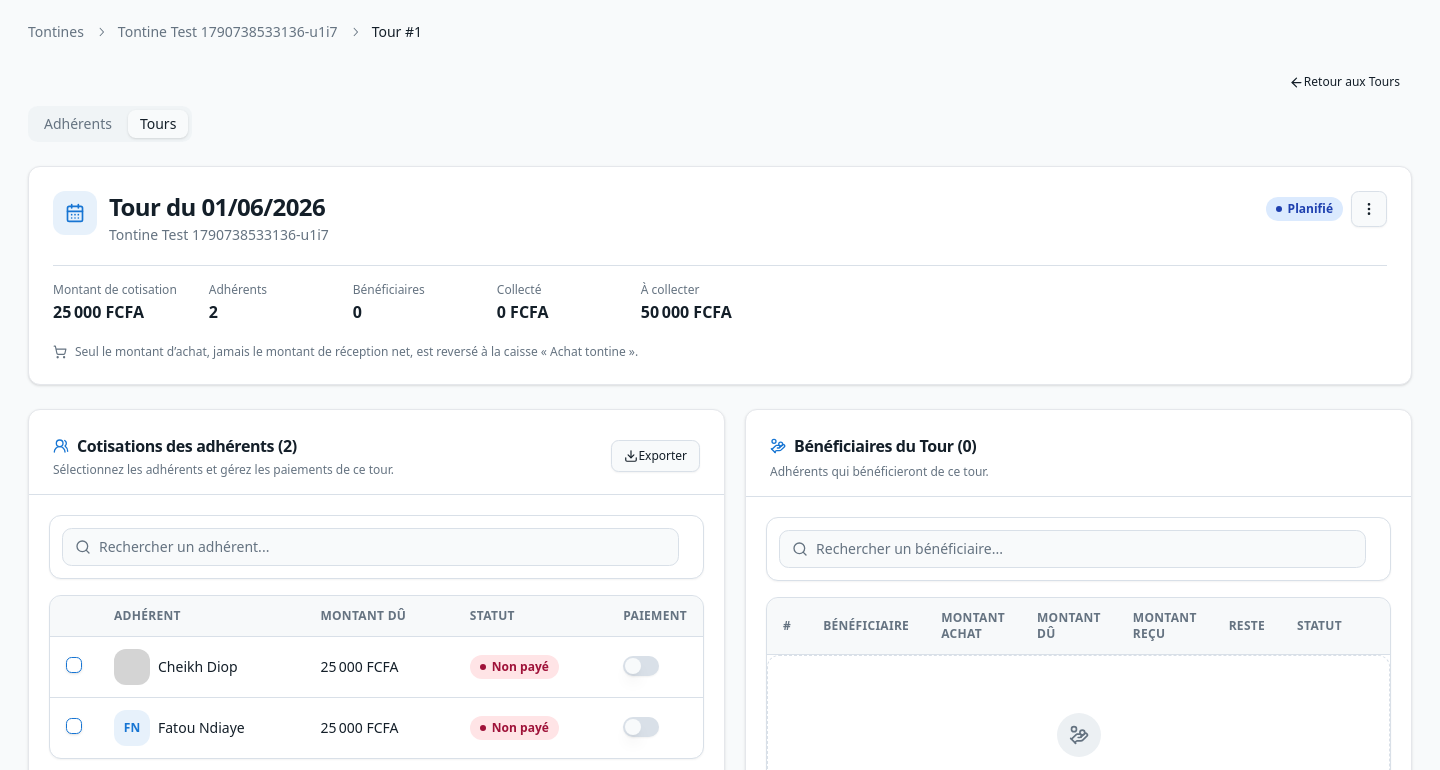
Espace de travail du Tour — Action « Régler » (Dû / Reçu / Reste / Statut) › un nouveau bénéficiaire affiche Dû/Reçu/Reste et le statut « En attente »
Expected: the text "Fatou Ndiaye" is shown, [158,718,245,737]
Click the checkbox named "Sélectionner" next to "FN" at [74, 726], box [66,718,82,734]
(page scrolled)
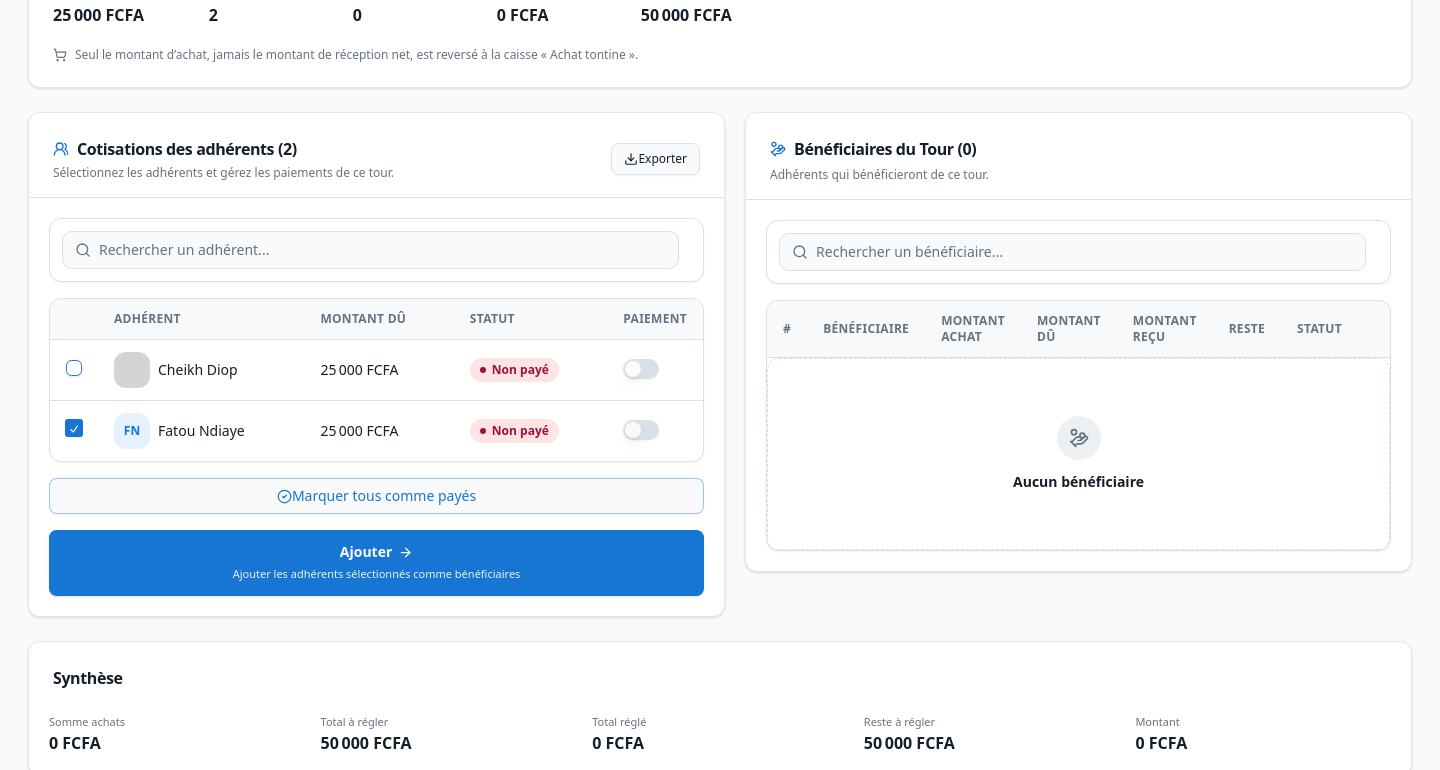
Click the button "Ajouter" at [377, 563], box [49,530,704,596]
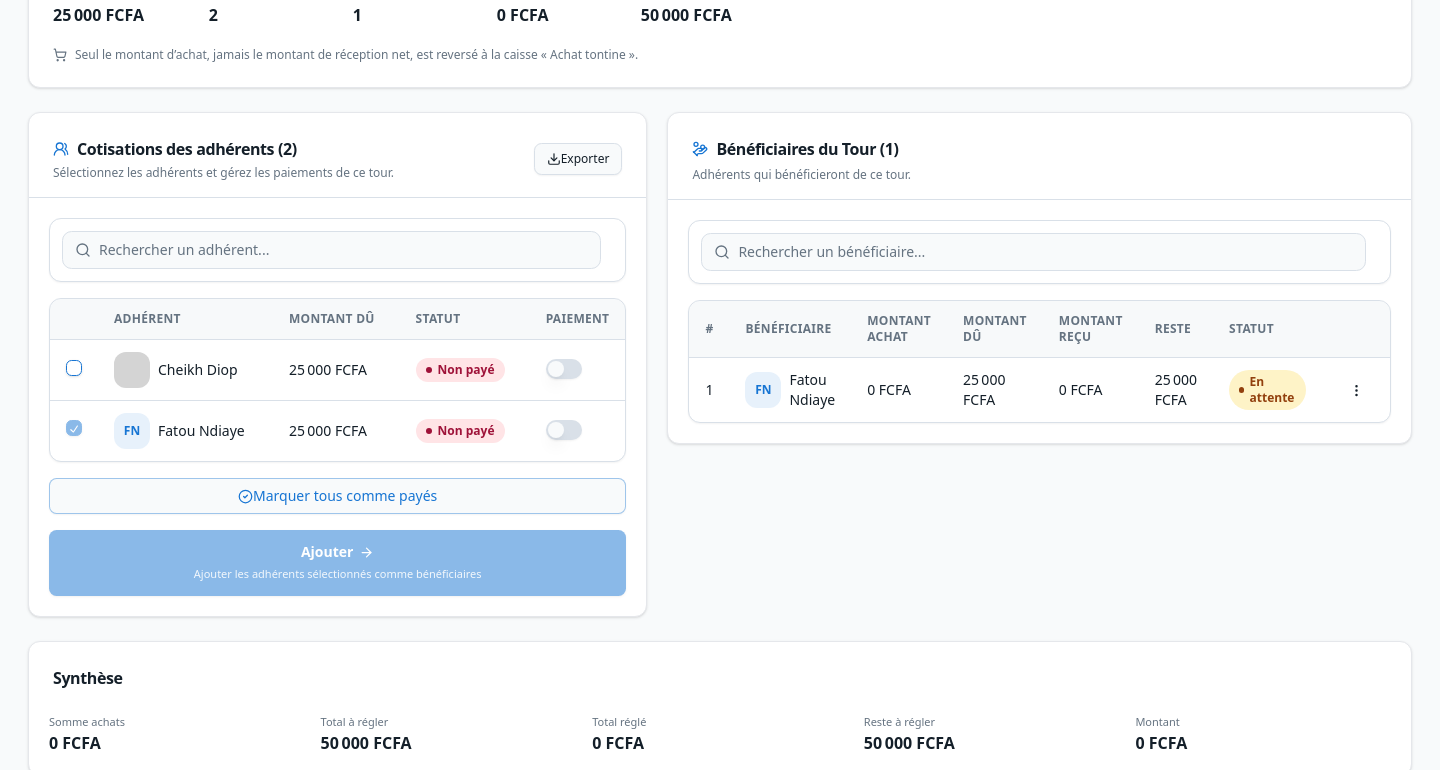
Expected: the text "Bénéficiaires du Tour (1)" is shown, [692,138,899,160]
Expected: the text "En attente" is shown, [1229,370,1306,410]
